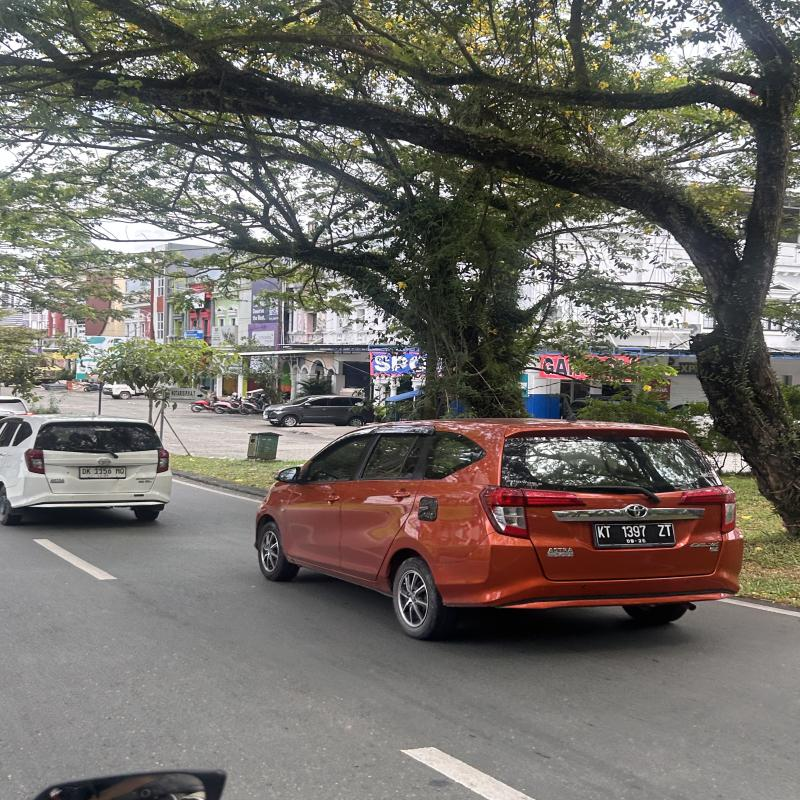license plate on a car: (593, 523, 679, 549), (79, 467, 126, 480)
